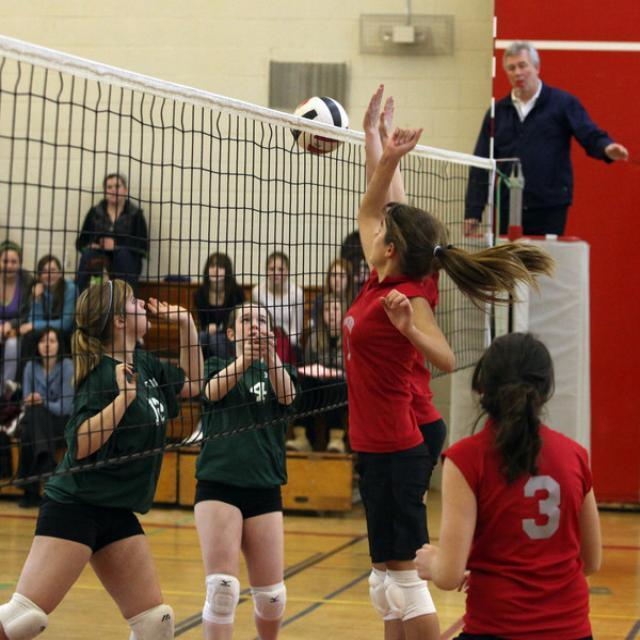volleyball: (292, 97, 348, 128)
